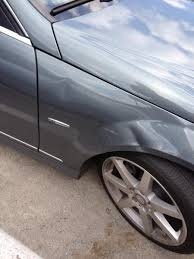Dent: (52, 75, 194, 162)
